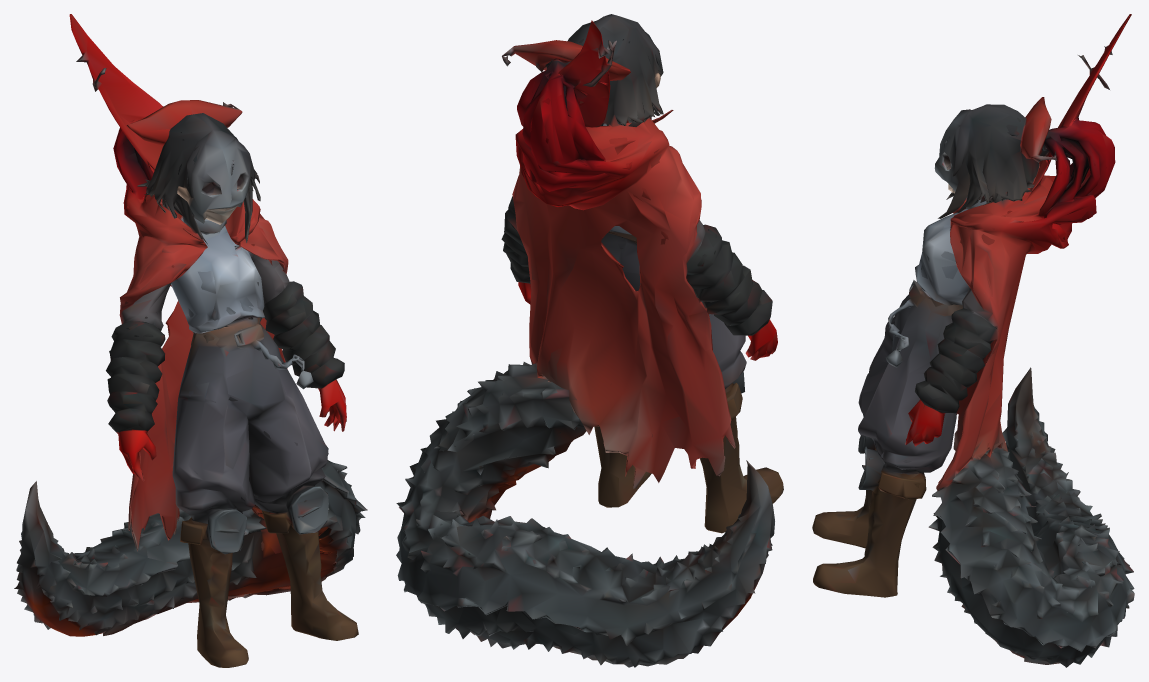
File: jefrie-from-one-picture.glb
3 renders of one model, left to right at view 1: azimuth 30°, elevation 25°; view 2: azimuth 150°, elevation 25°; view 3: azimuth 270°, elevation 25°, orthographic. The views are drawn at different scales.
Parts seen in each view (by area): view 1: toy; view 2: toy; view 3: toy.
Part boxes in pixels (bbox=[...]): toy: bbox=[14, 14, 367, 667]; toy: bbox=[396, 14, 783, 667]; toy: bbox=[812, 14, 1134, 667].
Bounding box in the file's own units: 0.5434 × 0.9459 × 0.4781.
